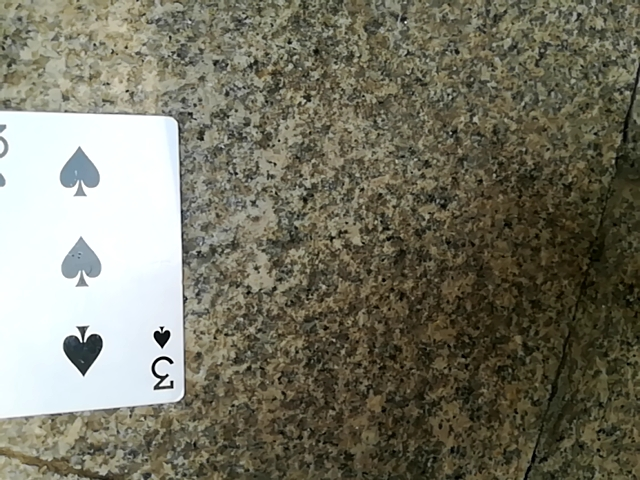ht 3: (1, 104, 184, 430)
